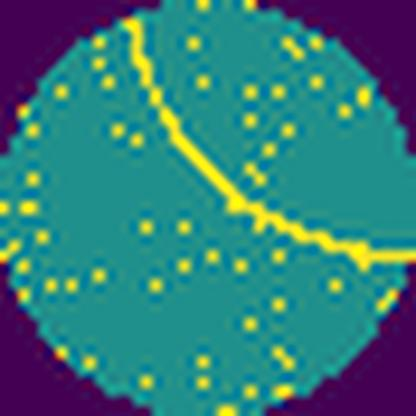Scratch: (119, 15, 416, 274)
